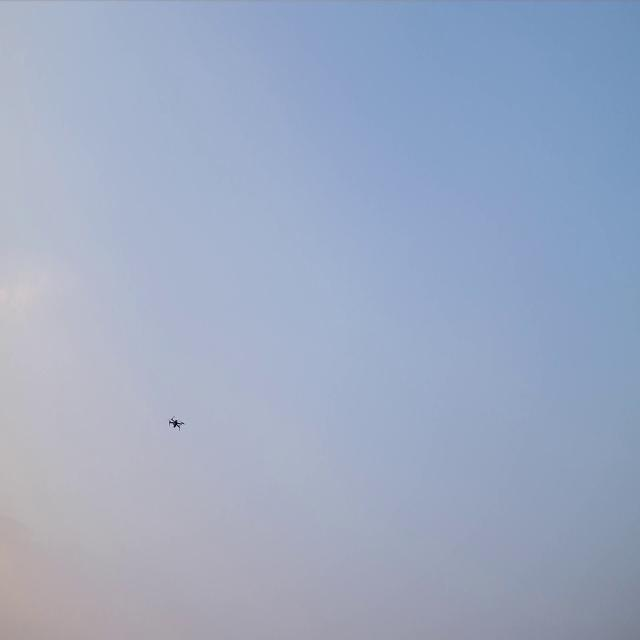UAV: (167, 413, 186, 431)
